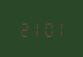one: (29, 20, 39, 37), (51, 20, 61, 37)
two: (18, 20, 28, 37)
zero: (40, 20, 50, 37)
